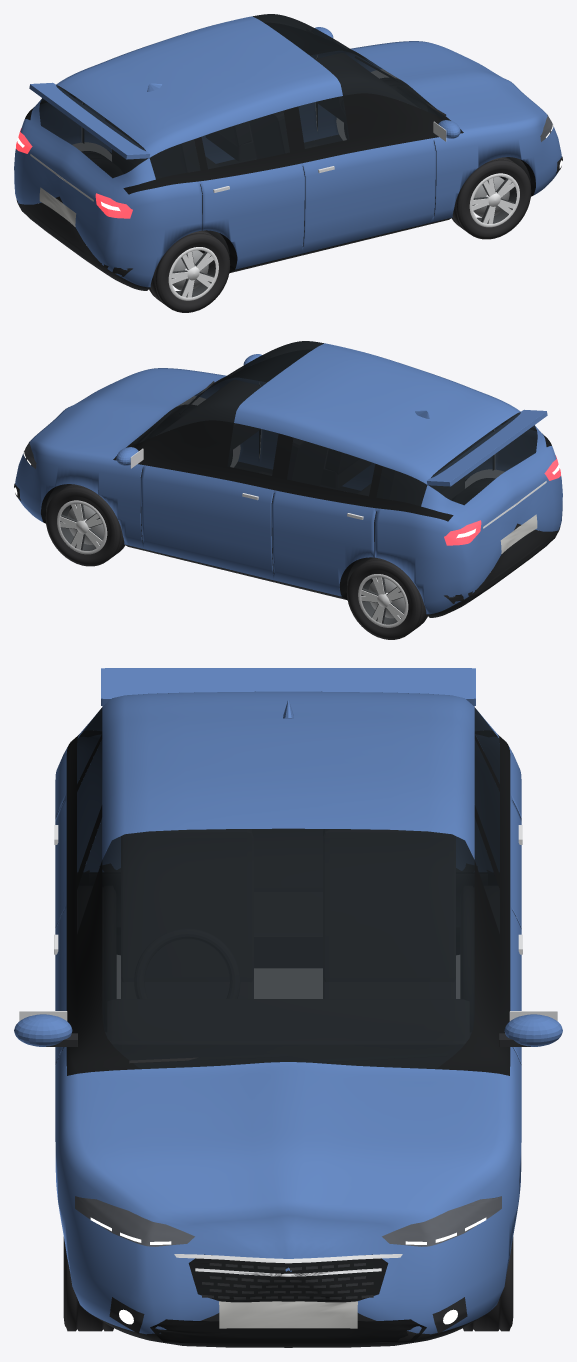
File: maruti-baleno-model-low.glb
3 renders of one model, top to bottom at view 1: azimuth 30°, elevation 25°; view 2: azimuth 150°, elevation 25°; view 3: azimuth 270°, elevation 25°, orthographic. The views are drawn at different scales.
Parts seen in each view (by area): view 1: Body, Wheel.004, Wheel.002, Spoiler, Dashboard, SeatBack.002, SeatBack.001, RearBumper, TailLamp, SeatBase, PlateRear, SeatBack (+2 smaller); view 2: Body, Wheel.003, Wheel.001, Spoiler, Dashboard, SeatBack.002, SeatBack, RearBumper, TailLamp, SeatBase.001, PlateRear, SeatBack.001 (+2 smaller); view 3: Body, Dashboard, SeatBack, SeatBack.001, Spoiler, Grille, SeatBase.002, Headlamp, Intake, SeatBack.002, PlateFront, SeatBase (+11 smaller).
Part boxes in pixels (bbox=[...]): Body: bbox=[14, 14, 561, 290]; Wheel.004: bbox=[149, 230, 230, 312]; Wheel.002: bbox=[451, 157, 531, 239]; Spoiler: bbox=[29, 82, 149, 159]; Dashboard: bbox=[315, 53, 416, 123]; SeatBack.002: bbox=[105, 118, 199, 178]; SeatBack.001: bbox=[250, 111, 289, 158]; RearBumper: bbox=[16, 200, 132, 276]; TailLamp: bbox=[16, 128, 132, 218]; SeatBase: bbox=[206, 121, 255, 160]; PlateRear: bbox=[39, 187, 76, 226]; SeatBack: bbox=[217, 122, 250, 146]; Body: bbox=[15, 341, 562, 617]; Wheel.003: bbox=[346, 557, 427, 639]; Wheel.001: bbox=[45, 484, 125, 566]; Spoiler: bbox=[427, 409, 547, 486]; Dashboard: bbox=[160, 380, 261, 450]; SeatBack.002: bbox=[377, 445, 471, 505]; SeatBack: bbox=[287, 438, 326, 486]; RearBumper: bbox=[444, 526, 560, 603]; TailLamp: bbox=[444, 455, 560, 545]; SeatBase.001: bbox=[321, 448, 370, 487]; PlateRear: bbox=[500, 514, 537, 553]; SeatBack.001: bbox=[326, 449, 359, 473]; Body: bbox=[55, 691, 521, 1347]; Dashboard: bbox=[108, 999, 468, 1069]; SeatBack: bbox=[323, 829, 455, 981]; SeatBack.001: bbox=[121, 829, 253, 981]; Spoiler: bbox=[101, 668, 475, 706]; Grille: bbox=[188, 1254, 388, 1302]; SeatBase.002: bbox=[254, 892, 322, 967]; Headlamp: bbox=[75, 1196, 501, 1246]; Intake: bbox=[150, 1319, 426, 1343]; SeatBack.002: bbox=[254, 828, 322, 891]; PlateFront: bbox=[219, 1301, 357, 1328]; SeatBase: bbox=[323, 979, 455, 998].
Bounding box in the file's own units: 3.96 × 1.5 × 2.06.
